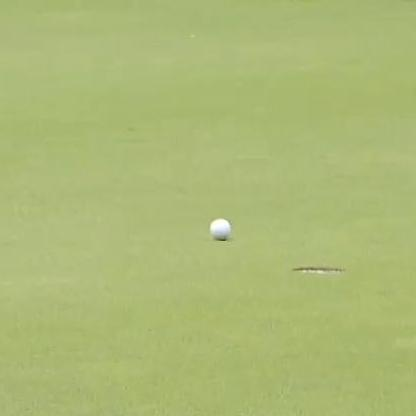golfball: (206, 214, 231, 241)
